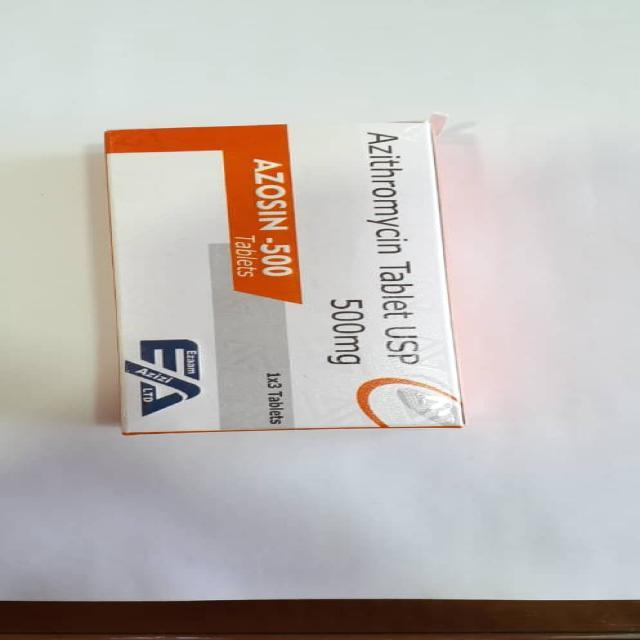drug-name: (252, 155, 293, 278)
